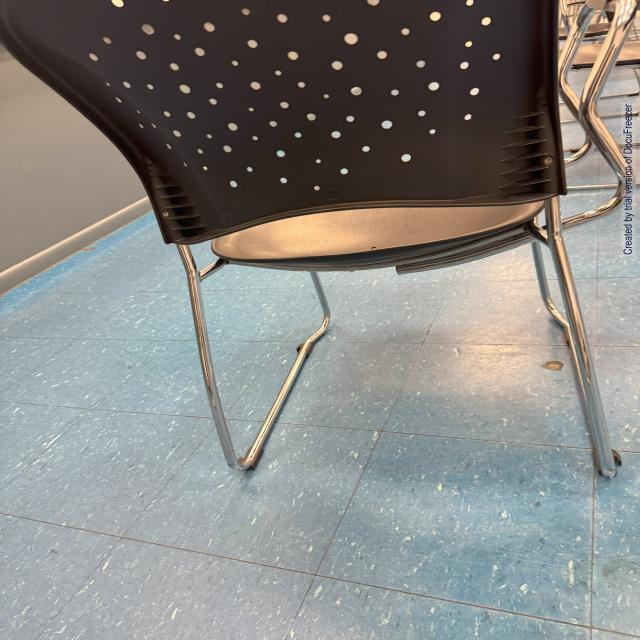chair: (0, 0, 627, 507)
